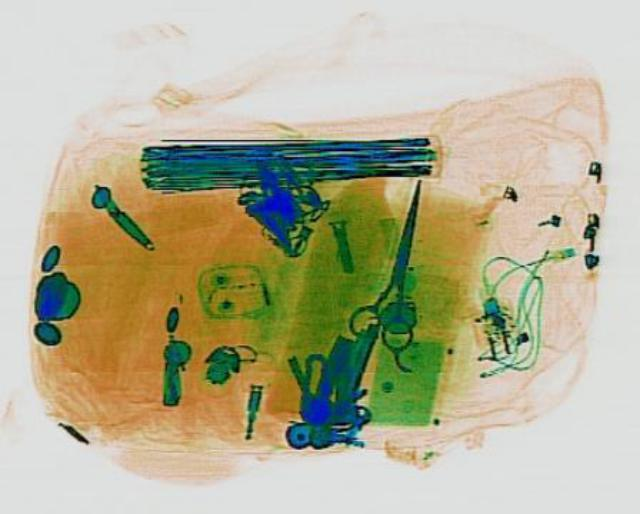Scissors: (341, 171, 449, 349)
